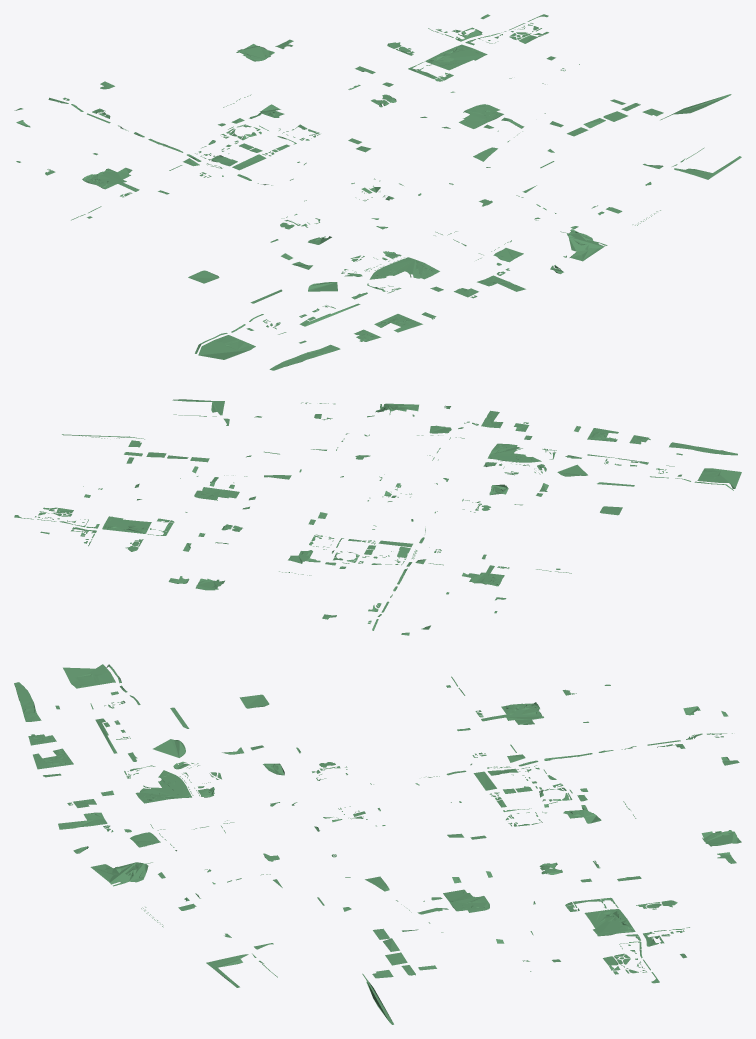
The model's file is green.glb.
The picture shows the model from 3 angles, top to bottom: view 1: azimuth 30°, elevation 25°; view 2: azimuth 150°, elevation 25°; view 3: azimuth 270°, elevation 25°; orthographic projection. The views are drawn at different scales.
Parts seen in each view (by area): view 1: green; view 2: green; view 3: green.
Boxes of the visible parts, x1,y1,x2,y2 form: green: (14,14,741,370); green: (14,399,741,635); green: (14,664,741,1024).
Bounding box in the file's own units: 2933 × 61.23 × 2531.
